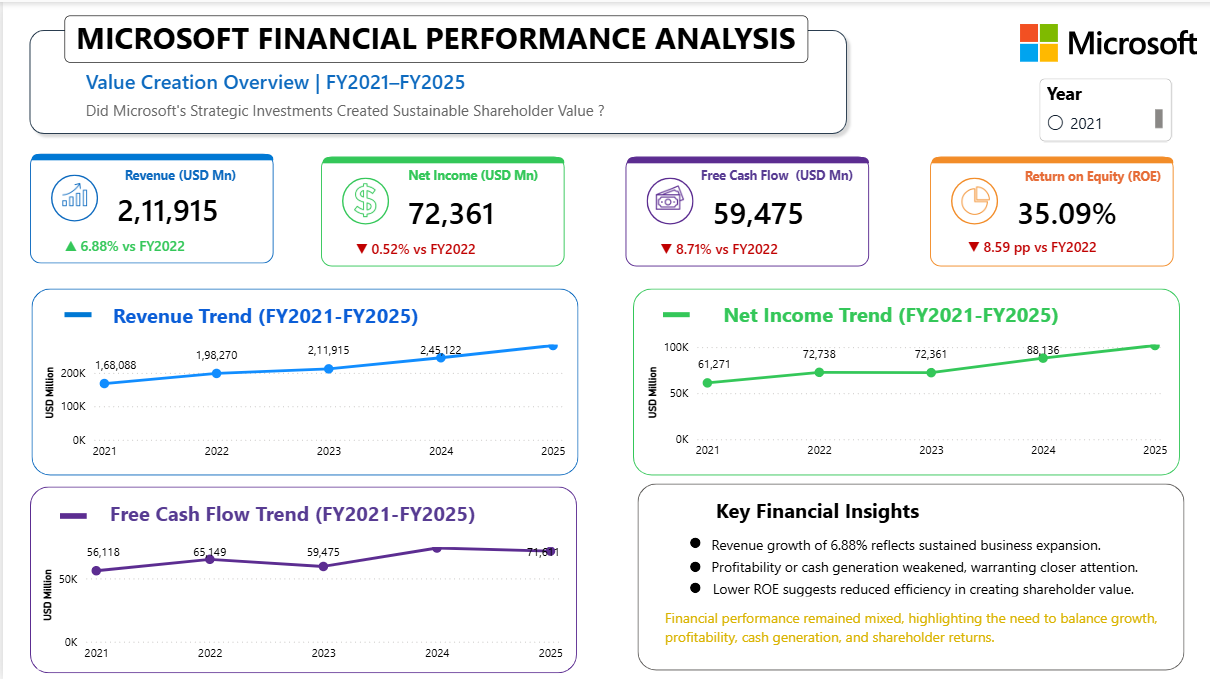

Layout of this report page (visuals, bound fields, positions):
{"tool":"powerbi","page":{"name":"Value Creation Overview","canvas":[1280,720],"ordinal":0},"visuals":[{"type":"shape","box":[20,23.3,881.7,125],"z":0,"group":"g8"},{"type":"listSlicer","fields":{"Values":["Income Statement.Year"]},"box":[1099.1,81.1,140,66.8],"z":0},{"type":"shape","box":[28.3,162,258.3,116.7],"z":0,"group":"g1"},{"type":"shape","box":[336.7,163.6,258.3,116.7],"z":1000,"group":"g2"},{"type":"shape","box":[660,163.6,258.3,116.7],"z":1000,"group":"g3"},{"type":"cardVisual","title":"Revenue (USD Mn)","fields":{"Data":["Income Statement.Total Revenue"]},"box":[91.6,183.7,183.3,70],"z":1000,"group":"g1"},{"type":"shape","box":[668.3,303.3,580,198.3],"z":1000},{"type":"group","id":"g1","title":"Group 1","box":[28.3,156.7,258.3,126.7],"z":2000},{"type":"shape","box":[983.3,163.6,258.3,116.7],"z":2000,"group":"g4"},{"type":"textbox","box":[123.3,168.7,128.3,30],"z":2000,"group":"g1"},{"type":"cardVisual","title":"Revenue (USD Mn)","fields":{"Data":["Cash Flow Statement.Total Free Cash Flow"]},"box":[723.3,185.3,183.3,70],"z":2000,"group":"g3"},{"type":"shape","box":[30,303.3,580,198.3],"z":2000,"group":"g5"},{"type":"actionButton","box":[30,156.7,256.7,12],"z":3000,"group":"g1"},{"type":"group","id":"g2","title":"Group 2","box":[336.7,158.3,258.3,127],"z":3000},{"type":"cardVisual","title":"Revenue (USD Mn)","fields":{"Data":["Income Statement.Total Net Income"]},"box":[400,185.3,183.3,70],"z":3000,"group":"g2"},{"type":"actionButton","box":[64.5,322.5,28.7,11.2],"z":3000,"group":"g5"},{"type":"textbox","box":[82,64.3,451.7,44.5],"z":4000,"group":"g8"},{"type":"group","id":"g3","title":"Group 3","box":[660,158.3,258.3,127],"z":4000},{"type":"textbox","box":[734.8,167.3,182.9,31.8],"z":4000,"group":"g3"},{"type":"shape","box":[50.6,183.7,50,50],"z":4000,"group":"g1"},{"type":"cardVisual","title":"Revenue (USD Mn)","fields":{"Data":["Balance Sheet.ROE %"]},"box":[1046.6,185.3,183.3,70],"z":4000,"group":"g4"},{"type":"textbox","box":[65,15,788.3,50],"z":4500,"group":"g8"},{"type":"textbox","box":[82,99.3,574.2,31.8],"z":5000,"group":"g8"},{"type":"actionButton","box":[661.7,158.3,256.7,12],"z":5000,"group":"g3"},{"type":"group","id":"g4","title":"Group 4","box":[983.3,158.3,258.3,133.3],"z":5000},{"type":"textbox","box":[424.7,167.3,154.3,30.2],"z":5000,"group":"g2"},{"type":"image","box":[60,190.4,31.7,30],"z":5000,"group":"g1"},{"type":"cardVisual","fields":{"Data":["Income Statement.Revenue Growth Indicator"]},"box":[36.6,233.7,196.7,50],"z":6000,"group":"g1"},{"type":"group","id":"g5","title":"Group 5","box":[30,303.3,580,198.3],"z":6000},{"type":"actionButton","box":[338.4,158.3,256.7,12],"z":7000,"group":"g2"},{"type":"textbox","box":[1078.3,170,162,30],"z":7000,"group":"g4"},{"type":"shape","box":[682.3,185.3,50,50],"z":7000,"group":"g3"},{"type":"group","id":"g6","title":"Group 6","box":[678.3,310,561.7,183.3],"z":7000},{"type":"lineChart","title":"Revenue Trend (2021–2025)","fields":{"Category":["Balance Sheet.Year"],"Y":["Income Statement.Total Revenue"]},"box":[37.7,349.7,562.8,144],"z":7000,"group":"g5"},{"type":"lineChart","title":"Net Income Trend (2021–2025)","fields":{"Category":["Balance Sheet.Year"],"Y":["Income Statement.Total Net Income"]},"box":[678.3,349.9,561.7,143.5],"z":7000,"group":"g6"},{"type":"actionButton","box":[700,322.8,28.3,11.2],"z":8000,"group":"g6"},{"type":"textbox","box":[756.7,525,351.7,39.9],"z":8000},{"type":"actionButton","box":[985,158.3,256.7,12],"z":9000,"group":"g4"},{"type":"shape","box":[359,185.3,50,50],"z":9000,"group":"g2"},{"type":"cardVisual","fields":{"Data":["Cash Flow Statement.FCF Growth Indicator"]},"box":[668.3,235.3,196.7,50],"z":9000,"group":"g3"},{"type":"group","id":"g7","title":"Group 7","box":[28.3,513.3,580,198],"z":9000},{"type":"shape","box":[673.3,510,580,198.3],"z":10000},{"type":"textbox","box":[750.8,518.5,243.4,39.8],"z":11000},{"type":"shape","box":[1005.6,185.3,50,50],"z":12000,"group":"g4"},{"type":"cardVisual","fields":{"Data":["Income Statement.Net Income Growth Indicator"]},"box":[345,235.3,196.7,50],"z":12000,"group":"g2"},{"type":"shape","box":[28.3,513.3,580,198],"z":13000,"group":"g7"},{"type":"cardVisual","fields":{"Data":["Cash Flow Statement.Revenue Insight"]},"box":[722.6,545.2,483.9,56.5],"z":13000},{"type":"cardVisual","fields":{"Data":["Cash Flow Statement.Profitability & Cash Insight"]},"box":[722.6,567.7,530.6,59.7],"z":14000},{"type":"cardVisual","fields":{"Data":["Balance Sheet.ROE Indicator"]},"box":[994.6,223.3,215,68.3],"z":15000,"group":"g4"},{"type":"textbox","box":[758.9,310,383.3,39.8],"z":15000,"group":"g6"},{"type":"textbox","box":[110.4,311.3,373.3,40],"z":15000,"group":"g5"},{"type":"lineChart","title":"Free Cash Flow Trend (2021–2025)","fields":{"Category":["Balance Sheet.Year"],"Y":["Cash Flow Statement.Total Free Cash Flow"]},"box":[37,565,561.7,143.3],"z":15000,"group":"g7"},{"type":"cardVisual","fields":{"Data":["Cash Flow Statement.Shareholder Value Insight"]},"box":[724.2,593.5,522.6,54.8],"z":15000},{"type":"textbox","box":[107.3,520.7,423.1,39.8],"z":16000,"group":"g7"},{"type":"cardVisual","fields":{"Data":["Cash Flow Statement.Executive Summary"]},"box":[672.6,604.8,608.1,114.5],"z":16000},{"type":"actionButton","box":[60,535,28.3,11.7],"z":16500,"group":"g7"},{"type":"shape","box":[729,567.7,11.3,11.3],"z":17000},{"type":"shape","box":[729,593.5,11.3,11.3],"z":18000},{"type":"image","box":[1016.6,195,30,30],"z":19000,"group":"g4"},{"type":"shape","box":[729,616.1,11.3,11.3],"z":19000},{"type":"group","id":"g8","title":"Group 8","box":[20,15,881.7,133.3],"z":20000},{"type":"image","box":[685,191.6,43.3,30],"z":20000,"group":"g3"},{"type":"image","box":[1079,20,188,45],"z":21000},{"type":"image","box":[353.4,190,61.7,38.3],"z":21000,"group":"g2"}]}

Visuals, with their boxes in screenshot pixels (x1, y1, x2, y2), scaled from the page's 1280x720 canvas onto the 1210x679 screenshot:
shape: 19,22,852,140
listSlicer - Income Statement.Year: 1039,76,1171,139
shape: 27,153,271,263
shape: 318,154,562,264
shape: 624,154,868,264
"Revenue (USD Mn)" cardVisual: 87,173,260,239
shape: 632,286,1180,473
"Group 1" group: 27,148,271,267
shape: 930,154,1174,264
textbox: 117,159,238,187
"Revenue (USD Mn)" cardVisual: 684,175,857,241
shape: 28,286,577,473
actionButton: 28,148,271,159
"Group 2" group: 318,149,562,269
"Revenue (USD Mn)" cardVisual: 378,175,551,241
actionButton: 61,304,88,315
textbox: 78,61,505,103
"Group 3" group: 624,149,868,269
textbox: 695,158,868,188
shape: 48,173,95,220
"Revenue (USD Mn)" cardVisual: 989,175,1163,241
textbox: 61,14,807,61
textbox: 78,94,620,124
actionButton: 626,149,868,161
"Group 4" group: 930,149,1174,275
textbox: 401,158,547,186
image: 57,180,87,208
cardVisual - Income Statement.Revenue Growth Indicator: 35,220,221,268
"Group 5" group: 28,286,577,473
actionButton: 320,149,563,161
textbox: 1019,160,1172,189
shape: 645,175,692,222
"Group 6" group: 641,292,1172,465
"Revenue Trend (2021–2025)" lineChart: 36,330,568,466
"Net Income Trend (2021–2025)" lineChart: 641,330,1172,465
actionButton: 662,304,688,315
textbox: 715,495,1048,533
actionButton: 931,149,1174,161
shape: 339,175,387,222
cardVisual - Cash Flow Statement.FCF Growth Indicator: 632,222,818,269
"Group 7" group: 27,484,575,671
shape: 636,481,1185,668
textbox: 710,489,940,527
shape: 951,175,998,222
cardVisual - Income Statement.Net Income Growth Indicator: 326,222,512,269
shape: 27,484,575,671
cardVisual - Cash Flow Statement.Revenue Insight: 683,514,1141,567
cardVisual - Cash Flow Statement.Profitability & Cash Insight: 683,535,1185,592
cardVisual - Balance Sheet.ROE Indicator: 940,211,1143,275
textbox: 717,292,1080,330
textbox: 104,294,457,331
"Free Cash Flow Trend (2021–2025)" lineChart: 35,533,566,668
cardVisual - Cash Flow Statement.Shareholder Value Insight: 685,560,1179,611
textbox: 101,491,501,529
cardVisual - Cash Flow Statement.Executive Summary: 636,570,1209,678
actionButton: 57,505,83,516
shape: 689,535,700,546
shape: 689,560,700,570
image: 961,184,989,212
shape: 689,581,700,592
"Group 8" group: 19,14,852,140
image: 648,181,688,209
image: 1020,19,1198,61
image: 334,179,392,215
